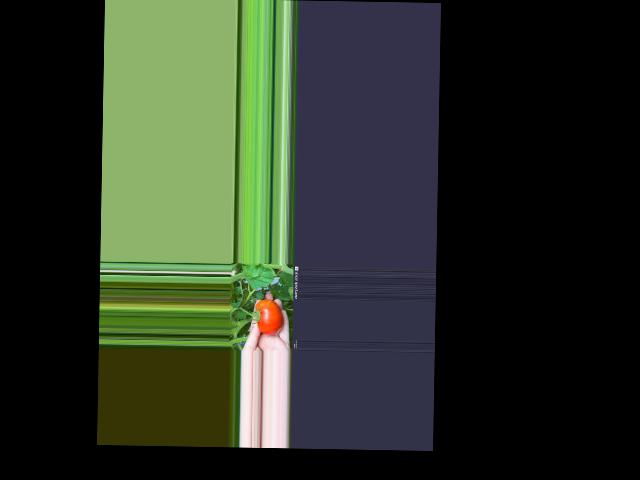tomato: (255, 299, 283, 335)
